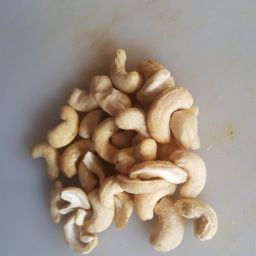Cashew: (29, 41, 226, 256)
